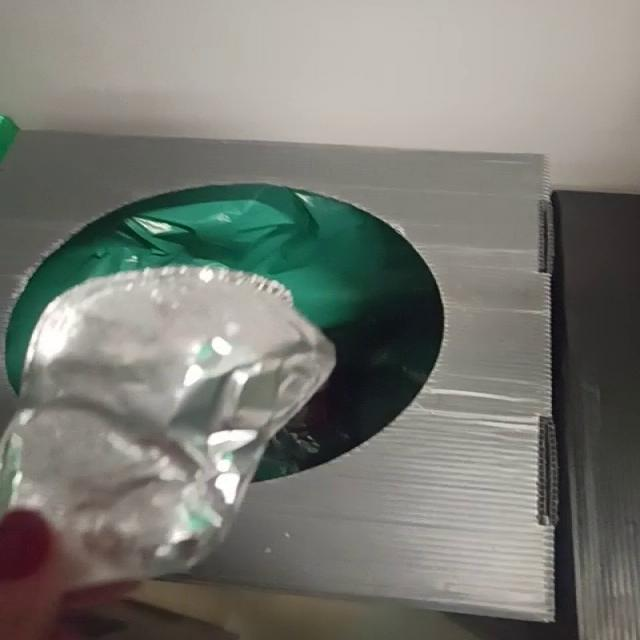bin: (1, 132, 557, 622)
metal: (1, 267, 336, 588)
